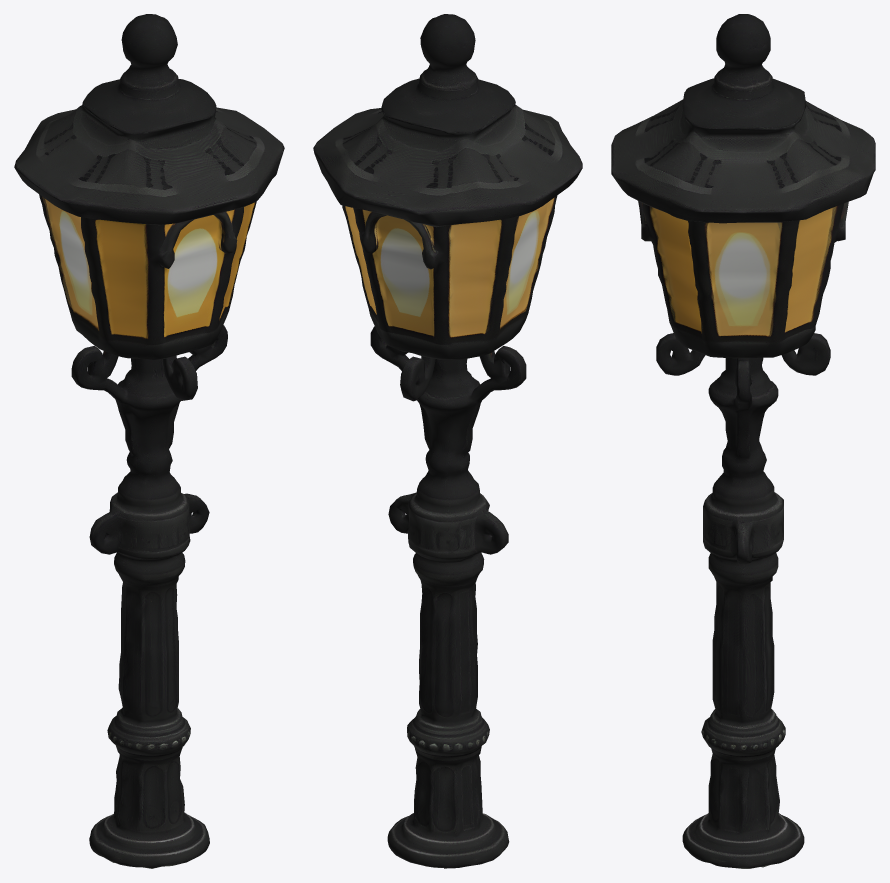
The model's file is estate_lamppost.glb.
3 renders of one model, left to right at view 1: azimuth 30°, elevation 25°; view 2: azimuth 150°, elevation 25°; view 3: azimuth 270°, elevation 25°, orthographic.
Bounding box in the file's own units: 0.5519 × 1.91 × 0.5519.
1 material, 1 textured.
